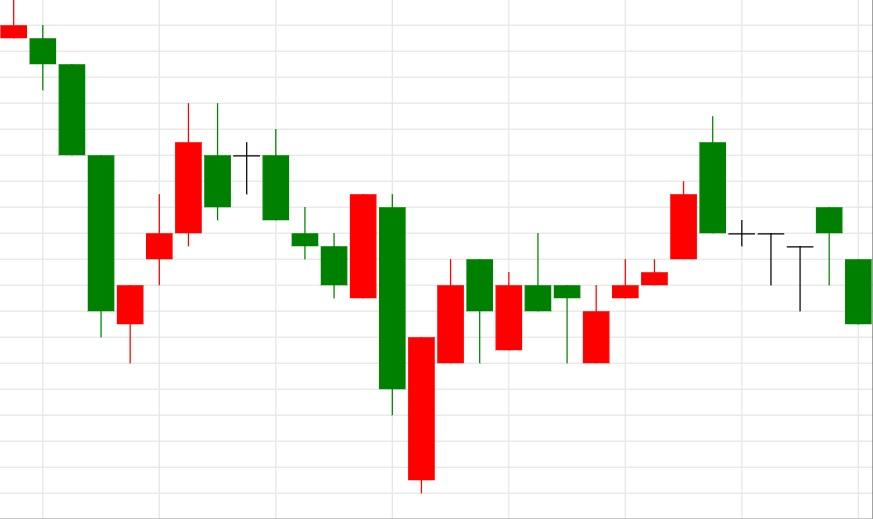bullish_engulfing_rise: (175, 102, 378, 299)
three_white_soldiers_rise: (0, 0, 203, 363)
